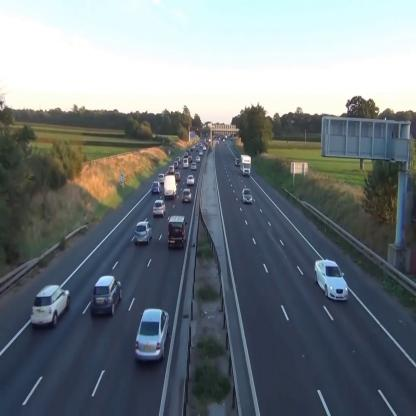car: (135, 308, 170, 361), (31, 286, 70, 328), (314, 259, 348, 301), (92, 276, 121, 318), (134, 221, 152, 245), (153, 200, 166, 218), (242, 188, 253, 204), (182, 189, 192, 202), (151, 182, 161, 194), (187, 174, 195, 185), (174, 172, 181, 182), (158, 173, 165, 182), (183, 159, 188, 167), (191, 162, 196, 170), (169, 166, 174, 173)
lorry: (168, 214, 186, 249), (165, 175, 177, 199), (240, 154, 251, 176)
